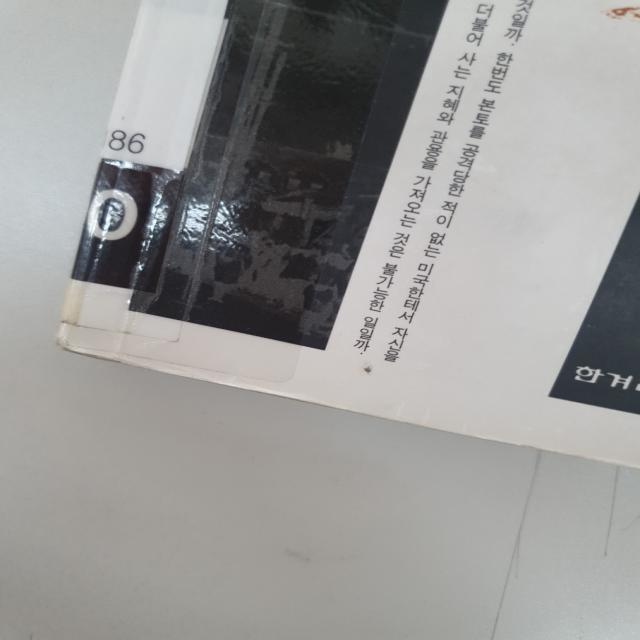Wornout: (198, 374, 350, 411), (50, 325, 143, 368)
